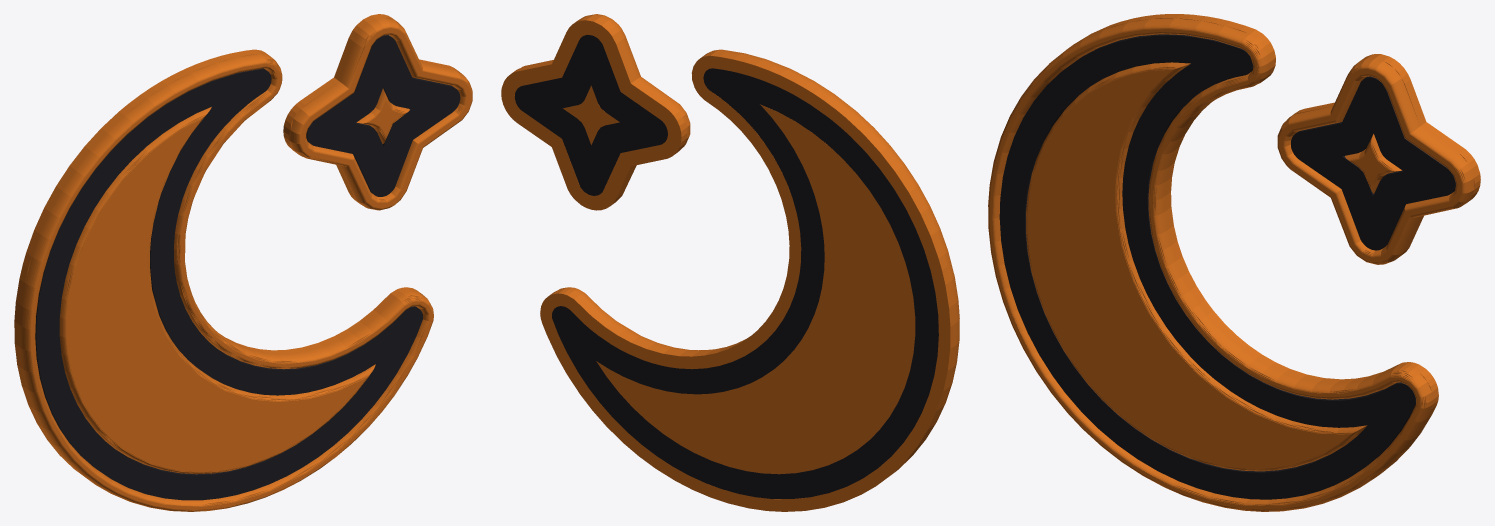
File: night_owl_t1.glb
The picture shows the model from 3 angles, left to right: view 1: azimuth 30°, elevation 25°; view 2: azimuth 150°, elevation 25°; view 3: azimuth 330°, elevation 25°; orthographic projection. The views are drawn at different scales.
Visible parts, largest first — view 1: mark, mark_channel; view 2: mark, mark_channel; view 3: mark, mark_channel.
Boxes of the visible parts, box(x1,y1,x2,y2) form: mark: box(14, 14, 472, 511); mark_channel: box(35, 35, 460, 500); mark: box(501, 14, 959, 511); mark_channel: box(514, 35, 938, 498); mark: box(988, 14, 1480, 511); mark_channel: box(999, 34, 1455, 499).
Bounding box in the file's own units: 0.4982 × 0.4756 × 0.024.
